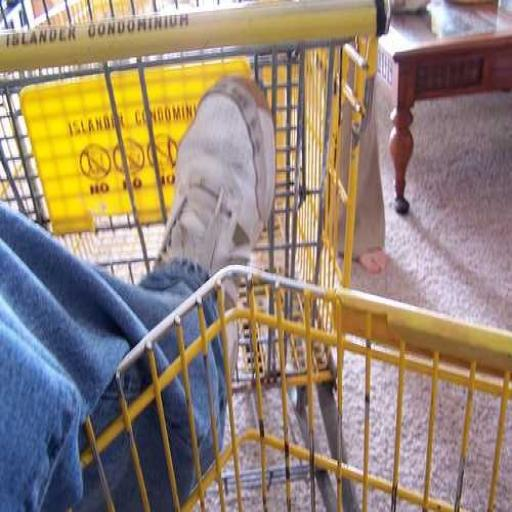shopping_cart: (0, 0, 387, 389), (77, 260, 510, 512)
